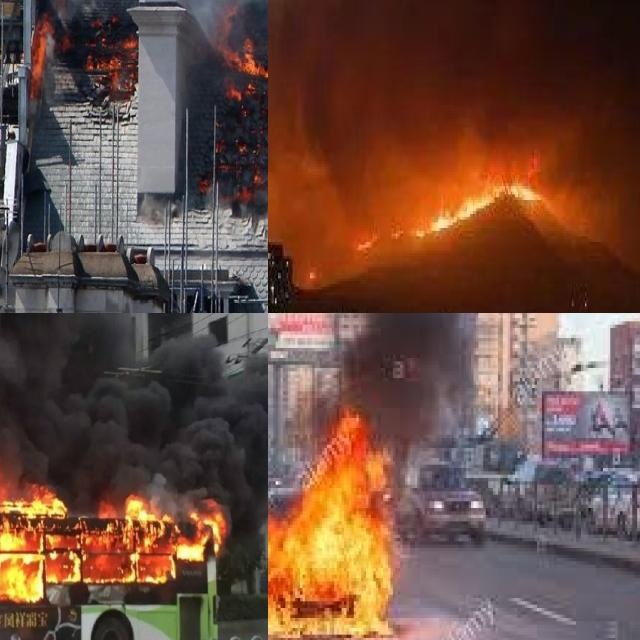fire: (0, 452, 226, 618), (268, 404, 402, 640), (196, 0, 268, 226), (349, 169, 550, 242), (32, 0, 138, 106)
smoke: (268, 0, 640, 256), (0, 313, 268, 494), (297, 313, 458, 441)
